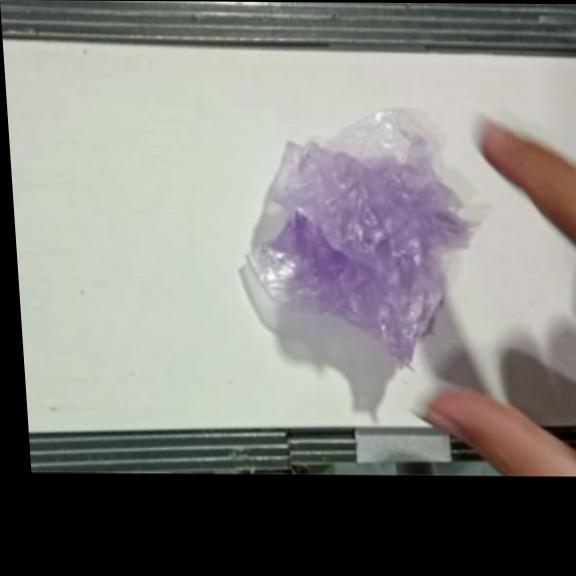Plastik: (237, 108, 488, 370)
